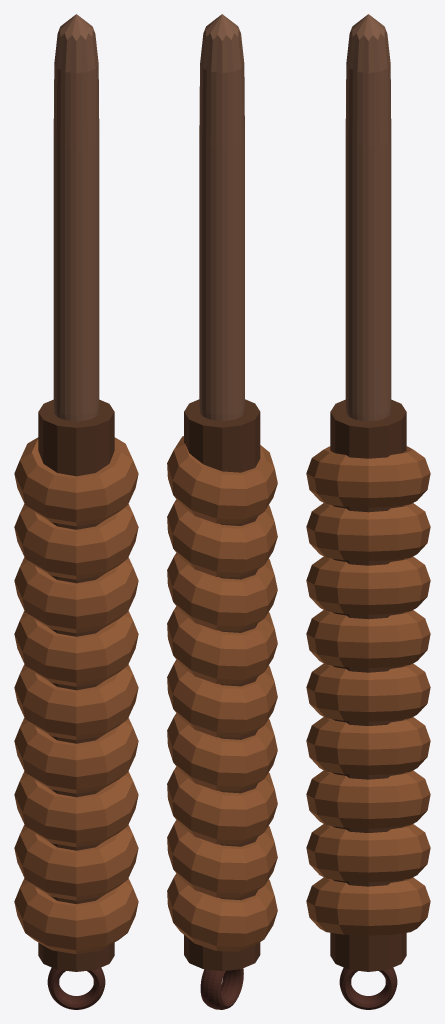
Rendered from Wand 411.glb.
3 renders of one model, left to right at view 1: azimuth 90°, elevation 25°; view 2: azimuth 150°, elevation 25°; view 3: azimuth 270°, elevation 25°, orthographic.
Visible parts, largest first — view 1: GeneratedWand; view 2: GeneratedWand; view 3: GeneratedWand.
Boxes of the visible parts, box(x1,y1,x2,y2) form: GeneratedWand: box(14, 14, 138, 1009); GeneratedWand: box(167, 14, 277, 1009); GeneratedWand: box(306, 14, 430, 1009).
Size of the model in its own units: 0.0497 by 0.5129 by 0.0581.
